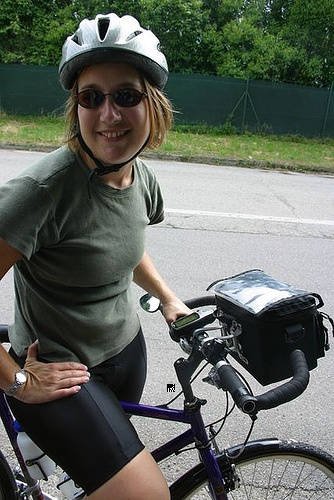car: (1, 269, 334, 500)
person: (1, 13, 195, 500)
person/hand: (14, 343, 92, 405), (160, 297, 196, 325)
person/head: (63, 27, 167, 165)
